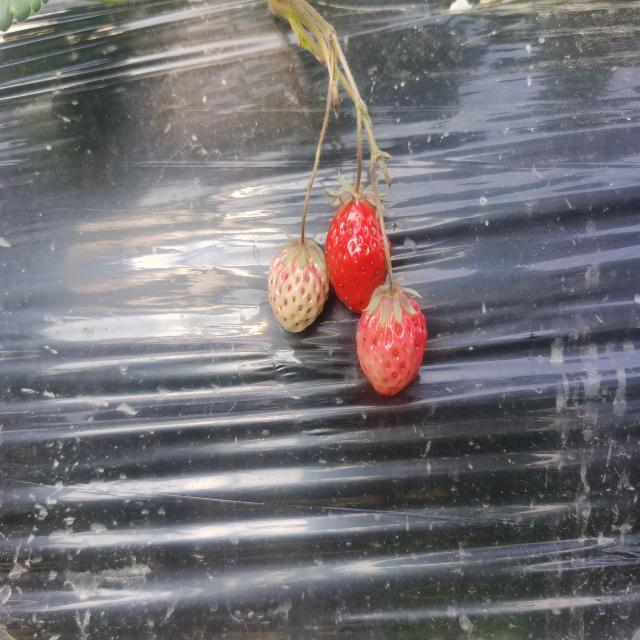stem: (384, 241, 393, 297), (300, 196, 309, 248), (354, 152, 362, 198)
strawberry: (356, 288, 427, 395), (325, 196, 387, 313), (268, 241, 329, 332)
